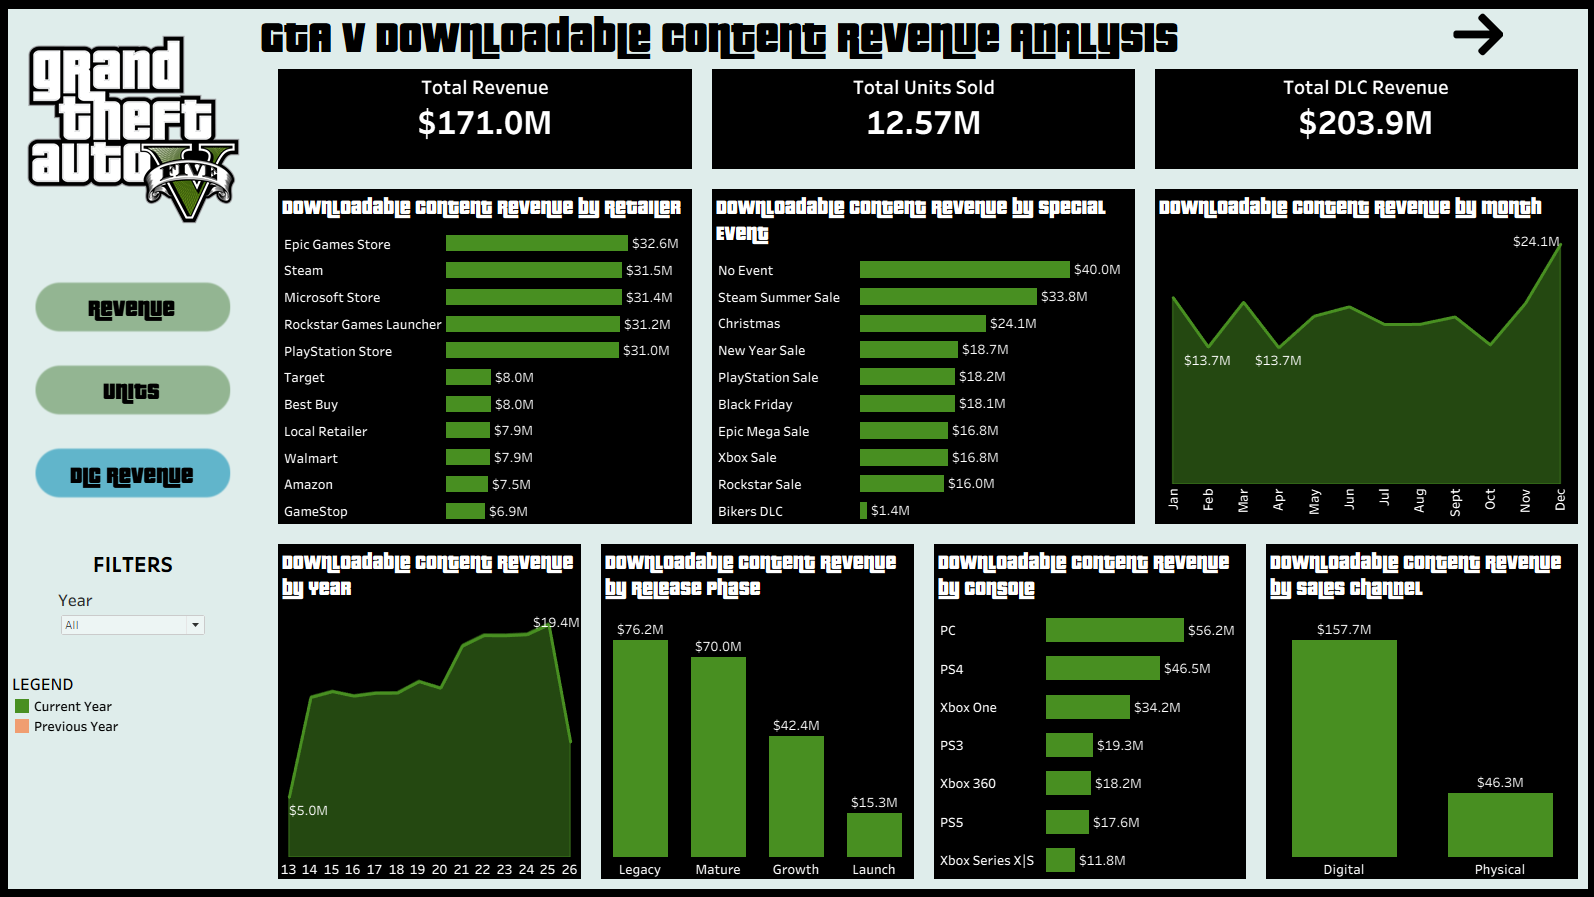

This screenshot's page, from the dashboard's own definition file:
{"tool":"tableau","page":{"name":"1","canvas":[1600,900],"ordinal":0},"visuals":[{"type":"blank","box":[10,10,250,20]},{"type":"text","box":[260,10,1130,50]},{"type":"dashboard-object","box":[1390,10,180,50]},{"type":"image","param":"Image/gta-v-logo-huge-transback1.png","box":[10,30,250,200]},{"type":"worksheet","title":"Revenue","mark":"Automatic","box":[280,70,414,100]},{"type":"worksheet","title":"Units Sold","mark":"Automatic","box":[714,70,423,100]},{"type":"worksheet","title":"DLC Revenue","mark":"Automatic","box":[1157,70,423,100]},{"type":"worksheet","title":"Retailer","mark":"Automatic","rows":["retailer"],"cols":["Calculation_1156724211879937","Metric YoY (copy)_1199605215707158"],"box":[280,190,414,335]},{"type":"worksheet","title":"Special Event","mark":"Bar","rows":["special_event"],"cols":["Calculation_1156724211879937","Metric YoY (copy)_1199605215707158"],"box":[714,190,423,335]},{"type":"worksheet","title":"Month","mark":"Automatic","rows":["Calculation_1156724211879937","Calculation_1156724211879937"],"cols":["Date"],"box":[1157,190,423,335]},{"type":"blank","box":[10,230,250,50]},{"type":"worksheet","title":"Buttons","mark":"Shape","rows":["Calculation_0579481005690900","Calculation_0579481005690900","Calculation_0579481005690900"],"box":[10,280,250,250]},{"type":"blank","box":[10,530,250,20]},{"type":"worksheet","title":"Year","mark":"Automatic","rows":["Calculation_1199605217181720","Calculation_1199605217181720"],"cols":["Date"],"box":[280,545,303,335]},{"type":"worksheet","title":"Release Phase","mark":"Automatic","rows":["Calculation_1199605217181720"],"cols":["release_phase"],"box":[603,545,313,335]},{"type":"worksheet","title":"Console","mark":"Automatic","rows":["platform"],"cols":["Calculation_1156724211879937","Metric YoY (copy)_1199605215707158"],"box":[936,545,312,335]},{"type":"worksheet","title":"Sales Channel","mark":"Automatic","rows":["Calculation_1156724211879937","Metric YoY (copy)_1199605215707158"],"cols":["sales_channel"],"box":[1268,545,312,335]},{"type":"text","box":[10,550,250,30]},{"type":"blank","box":[10,580,250,10]},{"type":"parameter","param":"[Parameters].[Parameter 1199605212127239]","box":[60,590,150,50]},{"type":"blank","box":[10,640,250,30]},{"type":"legend","title":"Console","param":"[federated.11s83u20dlavxa1726apb0tvfoed].[:Measure Names]","box":[10,670,250,71]}]}

Visuals, with their boxes in screenshot pixels (x1, y1, x2, y2), scaled from the page's 1600x900 canvas onto the 1594x897 screenshot:
blank: x1=10 y1=10 x2=259 y2=30
text: x1=259 y1=10 x2=1385 y2=60
dashboard-object: x1=1385 y1=10 x2=1564 y2=60
image: x1=10 y1=30 x2=259 y2=229
"Revenue" worksheet: x1=279 y1=70 x2=691 y2=169
"Units Sold" worksheet: x1=711 y1=70 x2=1133 y2=169
"DLC Revenue" worksheet: x1=1153 y1=70 x2=1574 y2=169
"Retailer" worksheet: x1=279 y1=189 x2=691 y2=523
"Special Event" worksheet (Bar marks): x1=711 y1=189 x2=1133 y2=523
"Month" worksheet: x1=1153 y1=189 x2=1574 y2=523
blank: x1=10 y1=229 x2=259 y2=279
"Buttons" worksheet (Shape marks): x1=10 y1=279 x2=259 y2=528
blank: x1=10 y1=528 x2=259 y2=548
"Year" worksheet: x1=279 y1=543 x2=581 y2=877
"Release Phase" worksheet: x1=601 y1=543 x2=913 y2=877
"Console" worksheet: x1=932 y1=543 x2=1243 y2=877
"Sales Channel" worksheet: x1=1263 y1=543 x2=1574 y2=877
text: x1=10 y1=548 x2=259 y2=578
blank: x1=10 y1=578 x2=259 y2=588
parameter: x1=60 y1=588 x2=209 y2=638
blank: x1=10 y1=638 x2=259 y2=668
"Console" legend: x1=10 y1=668 x2=259 y2=739
